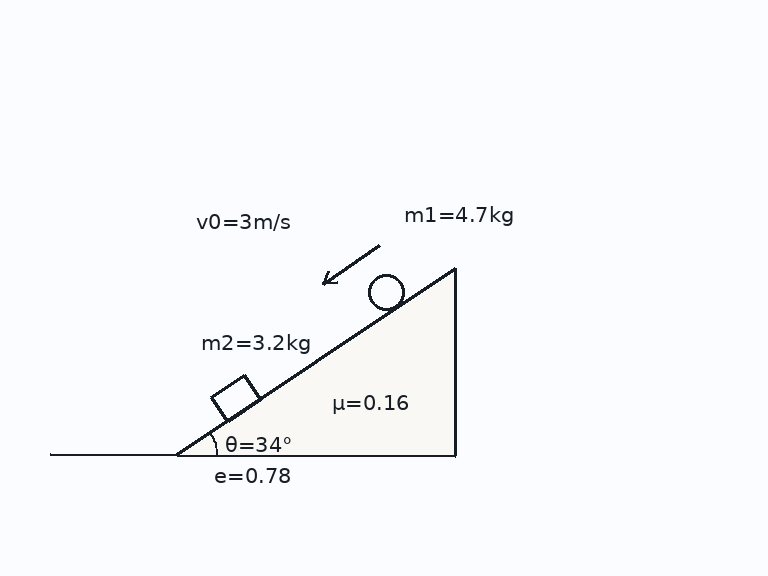ball: (366, 272, 406, 312)
block: (210, 373, 262, 423)
ramp: (175, 265, 458, 457)
